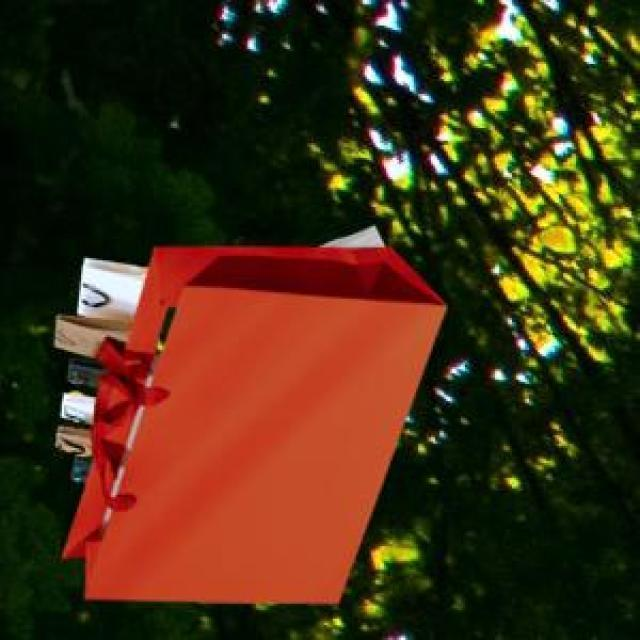paper: (58, 243, 442, 600), (51, 255, 144, 478)
